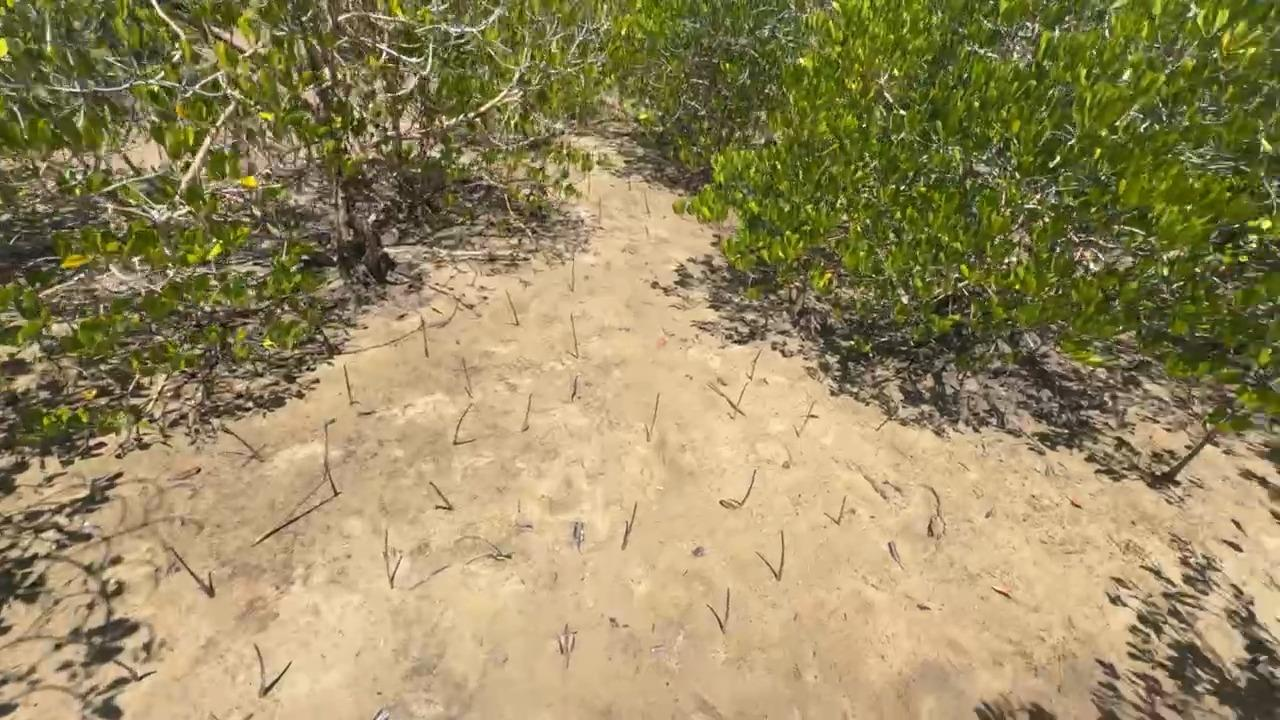Tree: (169, 546, 214, 598), (221, 426, 265, 462), (323, 416, 338, 495), (452, 403, 473, 444), (621, 502, 638, 550), (108, 656, 139, 682), (797, 400, 817, 438), (253, 642, 266, 698), (428, 481, 453, 510), (732, 382, 749, 420), (647, 393, 660, 442), (740, 469, 757, 506), (505, 288, 519, 325), (385, 529, 393, 590), (342, 362, 353, 406), (521, 393, 533, 431), (749, 349, 763, 380), (722, 587, 730, 634), (462, 356, 472, 393), (570, 312, 578, 358), (778, 529, 785, 581), (421, 316, 429, 358), (838, 495, 847, 526), (875, 417, 892, 431), (571, 375, 578, 403), (643, 190, 651, 213), (571, 250, 575, 292), (597, 197, 602, 225), (628, 179, 631, 191)
